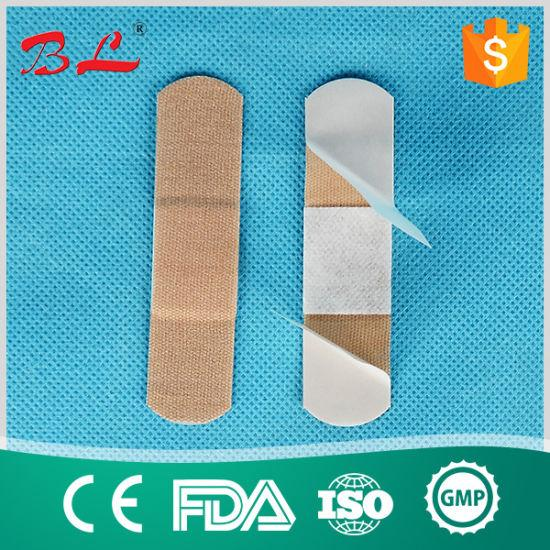bandage: (148, 74, 238, 426), (304, 79, 392, 427)
